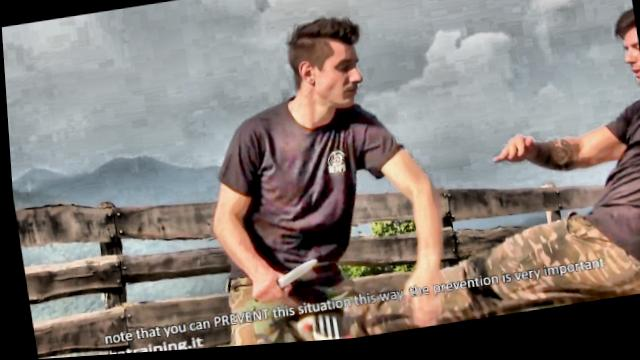knife: (237, 258, 322, 312)
